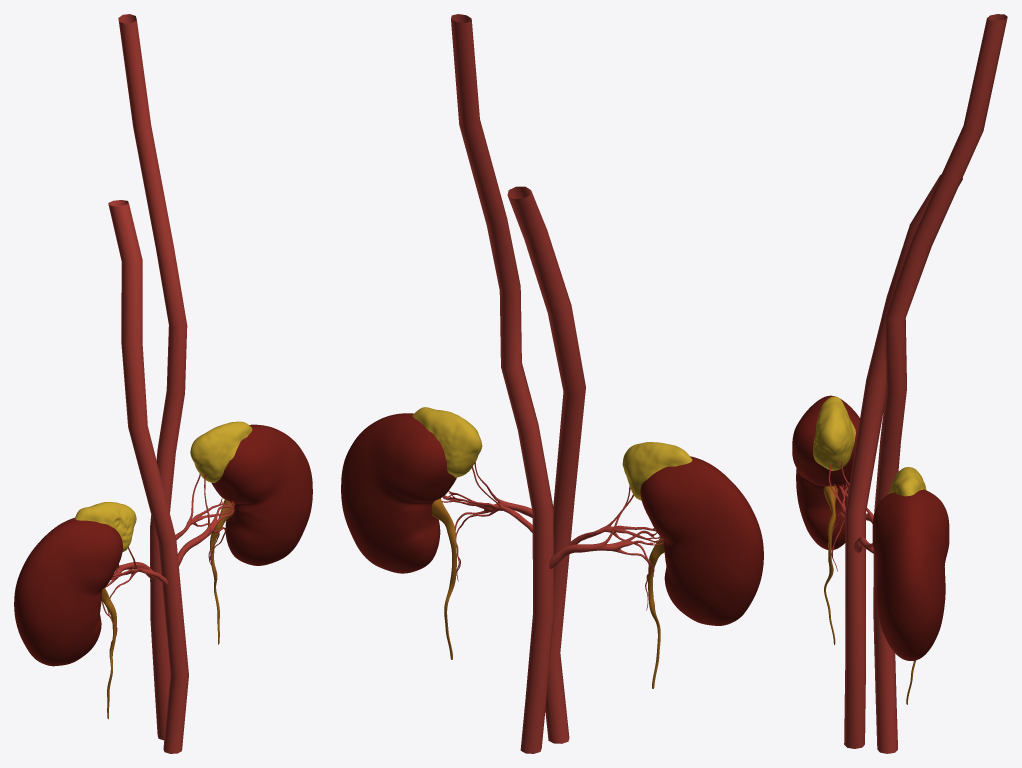
File: kidney.glb
The picture shows the model from 3 angles, left to right: view 1: azimuth 30°, elevation 25°; view 2: azimuth 150°, elevation 25°; view 3: azimuth 270°, elevation 25°; orthographic projection. The views are drawn at different scales.
Parts seen in each view (by area): view 1: BezierCurve.002_14, part 01_01_8, KIDNEY.001_15, part 01_01.001_13, part 02.001_12, part 02_7, Object_20, Object_18, Object_16, Object_8; view 2: BezierCurve.002_14, part 01_01_8, part 01_01.001_13, KIDNEY.001_15, part 02.001_12, part 02_7, Object_10, Object_18, Object_6, Object_16, Object_8, Object_20; view 3: BezierCurve.002_14, part 01_01.001_13, KIDNEY.001_15, part 01_01_8, part 02_7, part 02.001_12, Object_8.
Part boxes in pixels (box(x1,y1,x2,y2)): BezierCurve.002_14: box(118, 14, 187, 740); part 01_01_8: box(14, 517, 122, 666); KIDNEY.001_15: box(108, 200, 188, 753); part 01_01.001_13: box(211, 424, 312, 565); part 02.001_12: box(190, 421, 252, 482); part 02_7: box(74, 502, 136, 551); Object_20: box(177, 474, 235, 577); Object_18: box(210, 499, 233, 644); Object_16: box(175, 473, 234, 565); Object_8: box(101, 588, 116, 719); BezierCurve.002_14: box(451, 14, 554, 753); part 01_01_8: box(640, 456, 763, 625); part 01_01.001_13: box(341, 413, 456, 573); KIDNEY.001_15: box(507, 186, 585, 743); part 02.001_12: box(412, 407, 482, 477); part 02_7: box(622, 442, 692, 500); Object_10: box(549, 486, 663, 610); Object_18: box(431, 498, 456, 659); Object_6: box(570, 494, 663, 608); Object_16: box(442, 466, 532, 572); Object_8: box(648, 537, 664, 688); Object_20: box(442, 462, 532, 581); BezierCurve.002_14: box(873, 14, 1007, 753); part 01_01.001_13: box(872, 489, 949, 660); KIDNEY.001_15: box(844, 174, 962, 748); part 01_01_8: box(792, 395, 859, 549); part 02_7: box(813, 396, 855, 470); part 02.001_12: box(888, 467, 926, 496); Object_8: box(823, 486, 837, 644).
Bounding box in the file's own units: 0.9473 × 1.86 × 0.4921.
